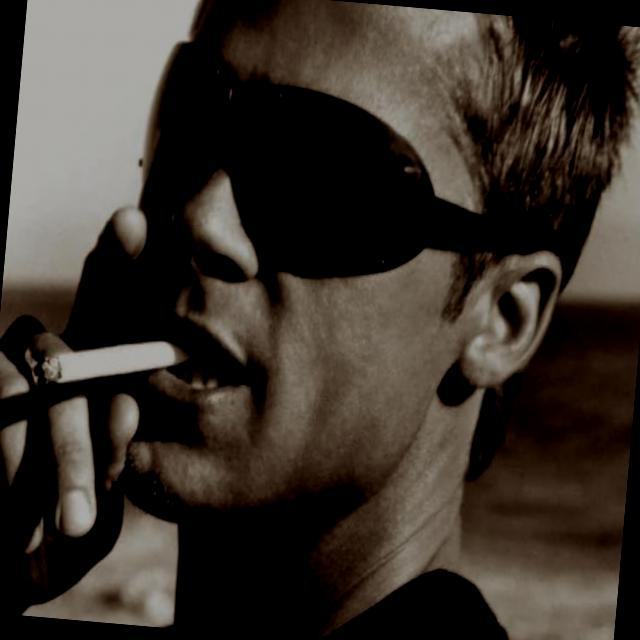cigarette: (0, 256, 243, 552)
